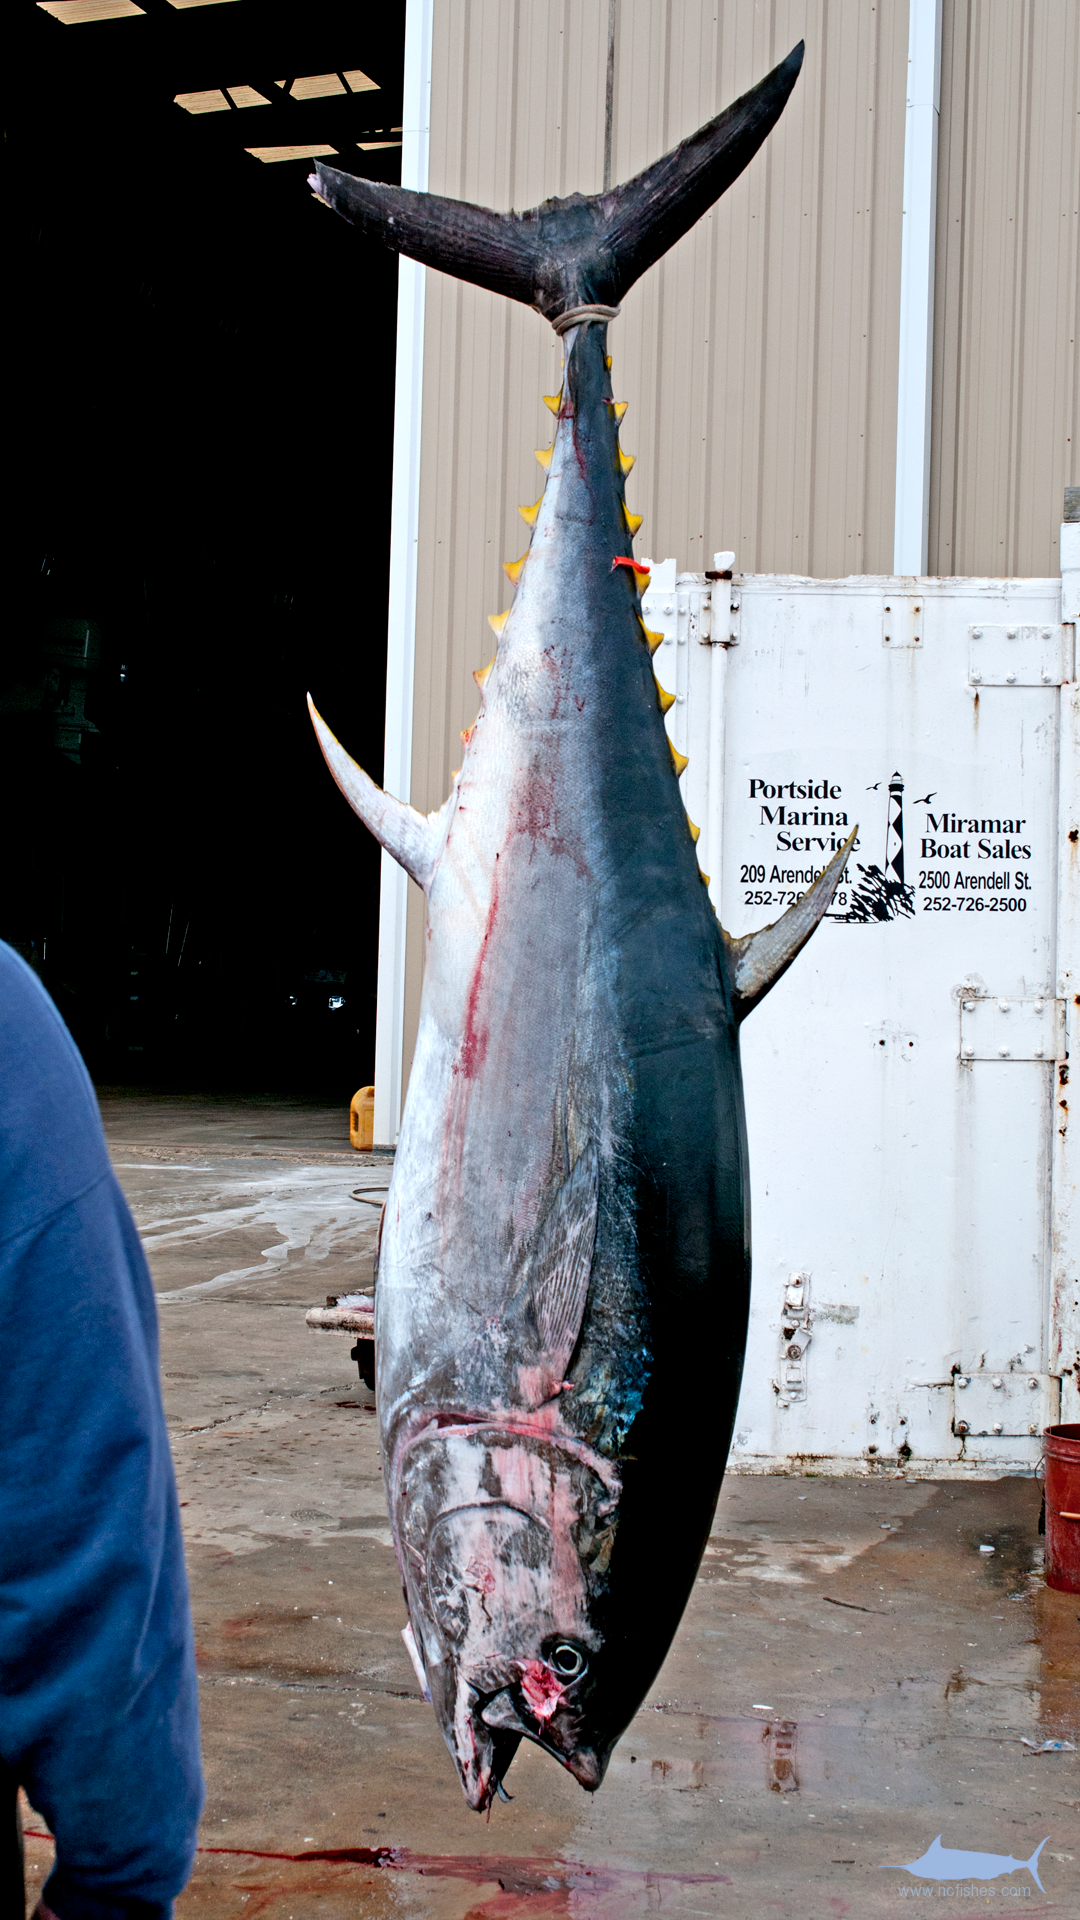Bluefina Tuna: (289, 92, 827, 1795)
